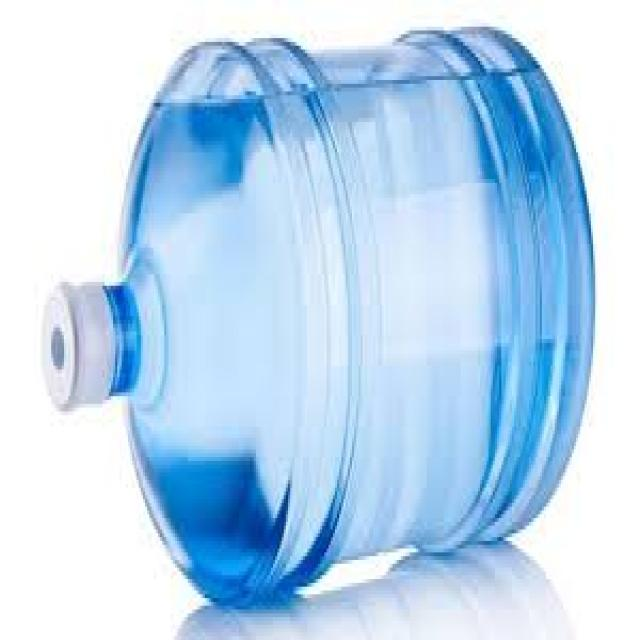Galon: (40, 19, 598, 610)
